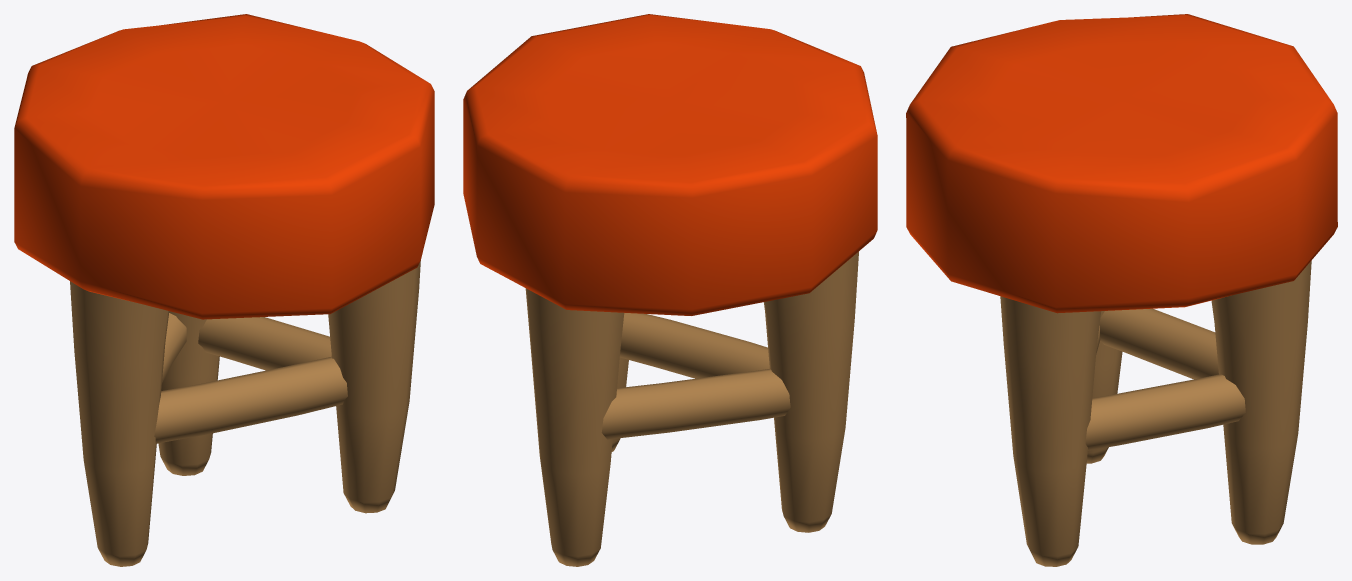
The model's file is Props_tabouret.fbx.
3 renders of one model, left to right at view 1: azimuth 30°, elevation 25°; view 2: azimuth 150°, elevation 25°; view 3: azimuth 270°, elevation 25°, orthographic.
Parts seen in each view (by area): view 1: Cube.158; view 2: Cube.158; view 3: Cube.158.
Boxes of the visible parts, x1,y1,x2,y2 form: Cube.158: (14, 14, 434, 566); Cube.158: (463, 14, 877, 566); Cube.158: (906, 14, 1337, 566).
Bounding box in the file's own units: 67.12 × 76.91 × 70.56.
